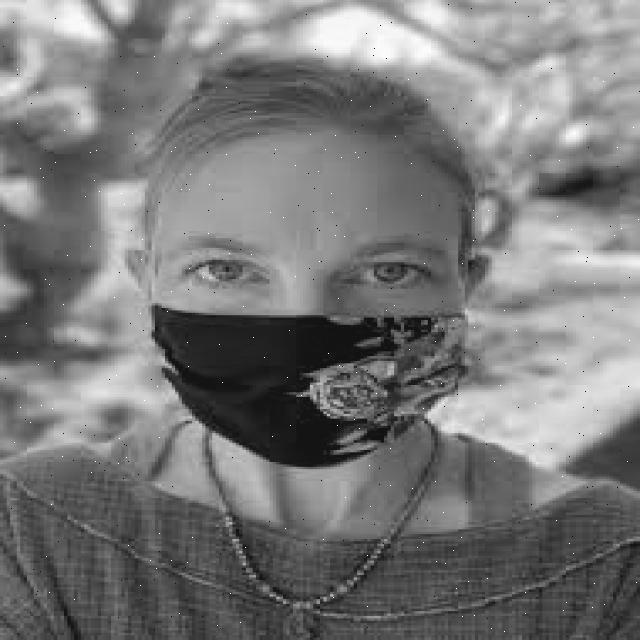fake: (148, 301, 470, 469)
real: (151, 131, 470, 474)
